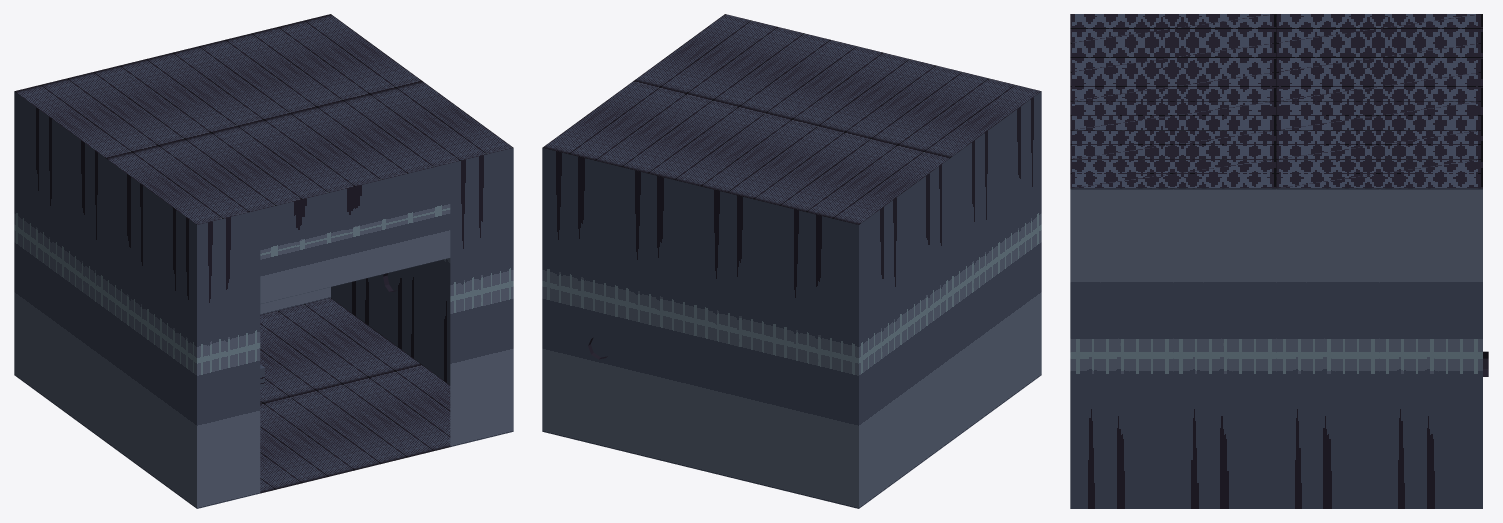
The model's file is SUB-05_Sala_de_maquinas.gltf.
3 renders of one model, left to right at view 1: azimuth 30°, elevation 25°; view 2: azimuth 150°, elevation 25°; view 3: azimuth 270°, elevation 25°, orthographic. The views are drawn at different scales.
Visible parts, largest first — view 1: SUB-05_Sala_de_maquinas-col; view 2: SUB-05_Sala_de_maquinas-col; view 3: SUB-05_Sala_de_maquinas-col.
Boxes of the visible parts, box(x1,y1,x2,y2) form: SUB-05_Sala_de_maquinas-col: box(14, 14, 513, 508); SUB-05_Sala_de_maquinas-col: box(542, 14, 1041, 508); SUB-05_Sala_de_maquinas-col: box(1070, 14, 1488, 508).
Size of the model in its own units: 7 by 6 by 7.1.
Materials: 1 (1 with a texture image).
